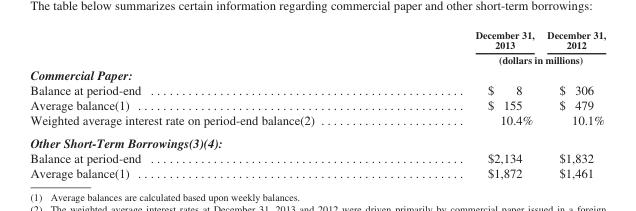table: (29, 28, 605, 179)
table column: (29, 28, 394, 179), (394, 28, 540, 179), (540, 28, 605, 179)
table column header: (29, 28, 605, 66)
table projected row header: (29, 130, 605, 150), (29, 66, 605, 81)
table row: (29, 28, 605, 52), (29, 130, 605, 150), (29, 112, 605, 130), (29, 81, 605, 97), (29, 66, 605, 81), (29, 97, 605, 112), (29, 150, 605, 165), (29, 52, 605, 66), (29, 165, 605, 179)
table spanning cell: (394, 52, 605, 66)
